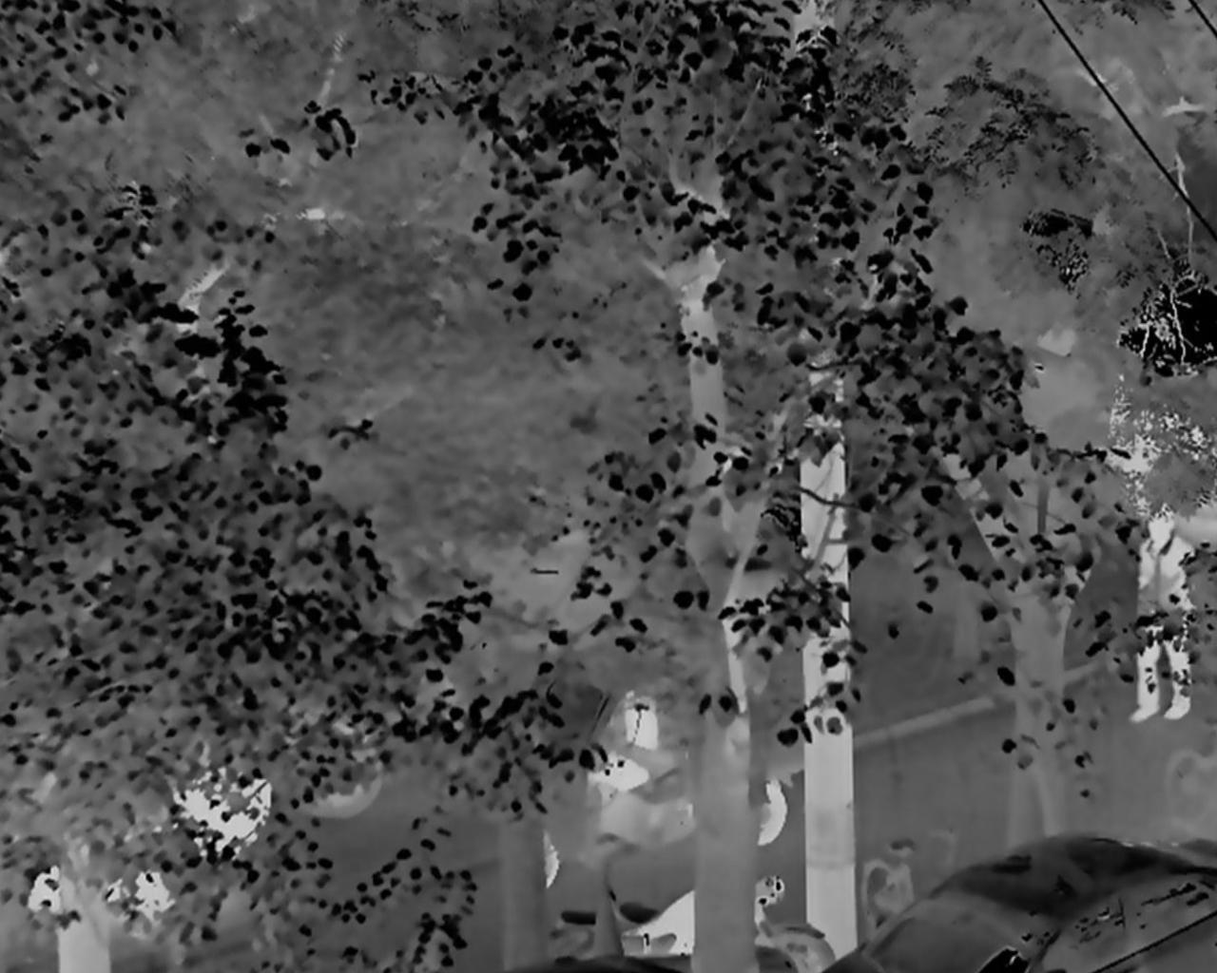person: (1126, 504, 1194, 722)
